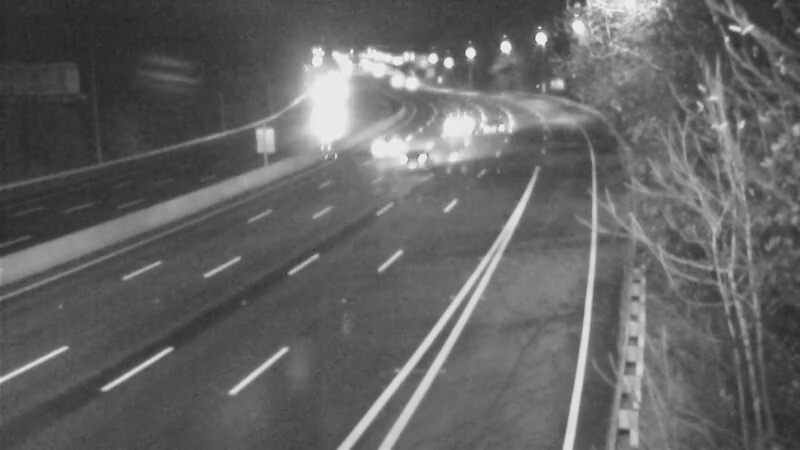vehicle: (372, 120, 452, 200), (369, 54, 419, 104), (387, 57, 437, 107), (431, 93, 481, 143), (469, 97, 519, 147), (365, 117, 415, 167)
